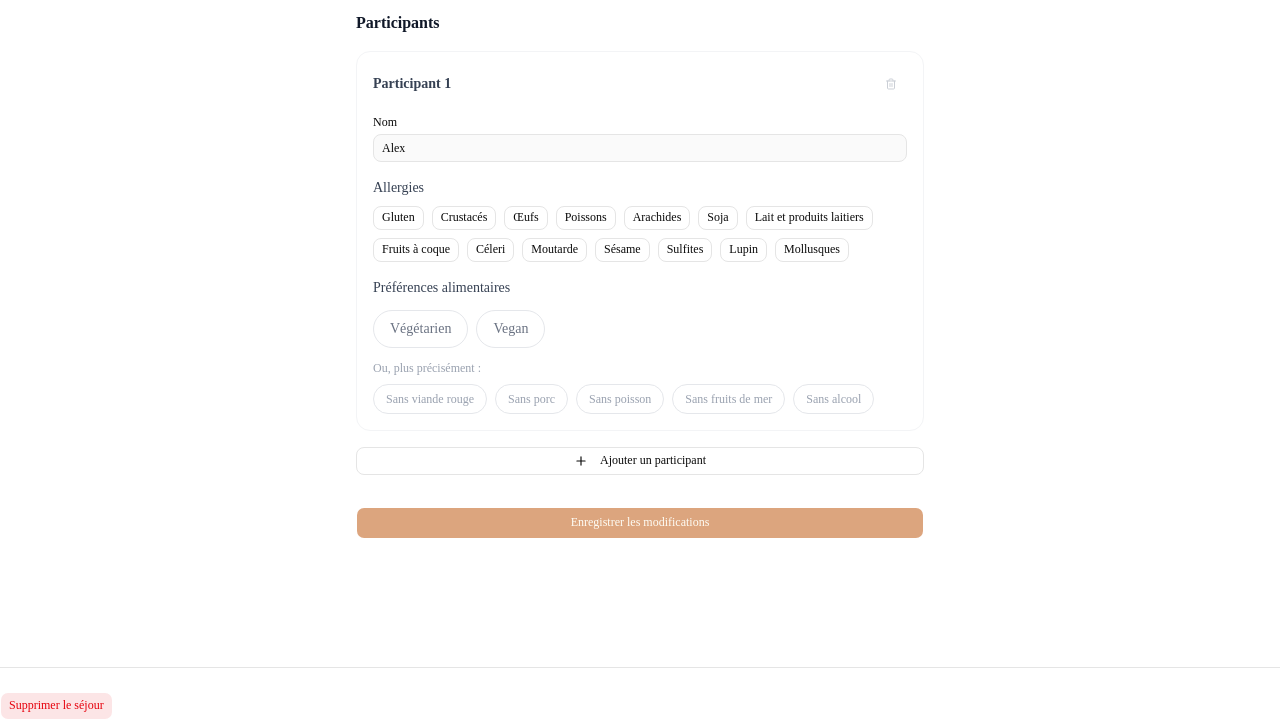
EditSejourClient — suppression › n'appelle pas DELETE quand on annule la confirmation
The image size is (1280, 720).
(page scrolled)
What coordinates should you click on to do the following:
click the button "Supprimer le séjour"
I would click on:
 (56, 706)
Its box is [0,692,113,719].
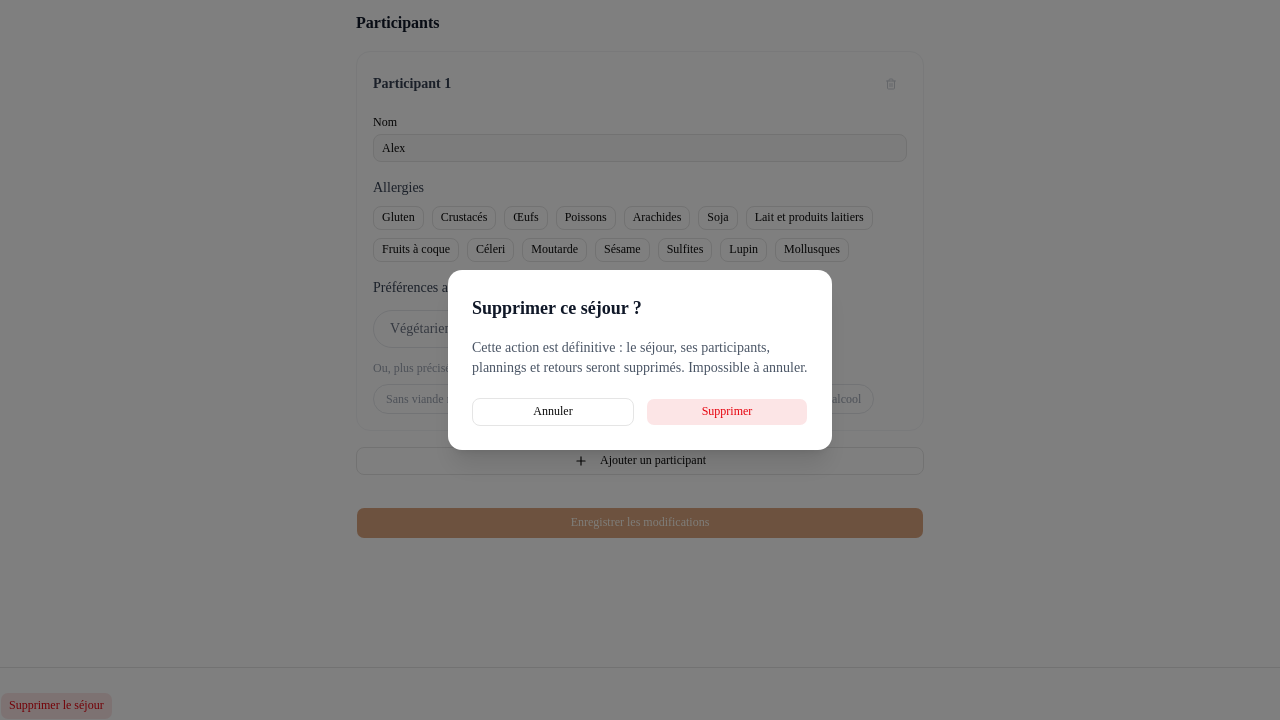
What coordinates should you click on to do the following:
click the button "Annuler"
I would click on:
 (553, 412)
Its box is [472,398,634,426].
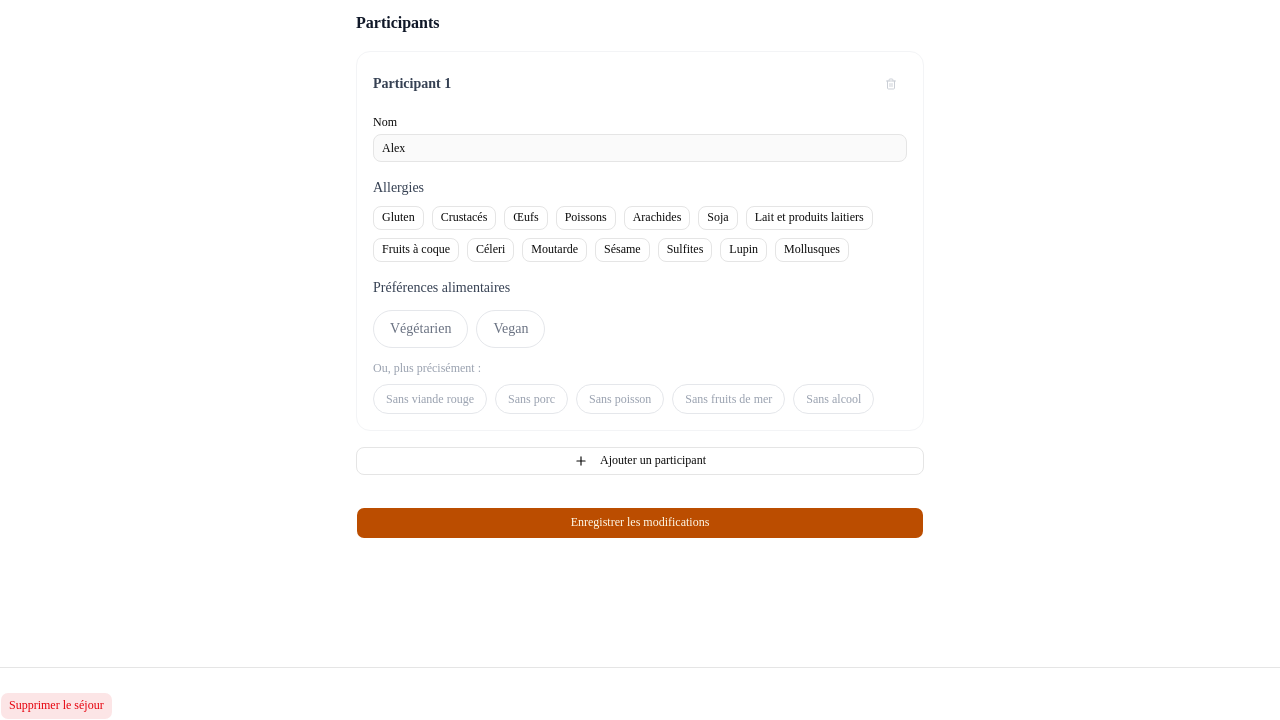
Check: the dialog is gone
